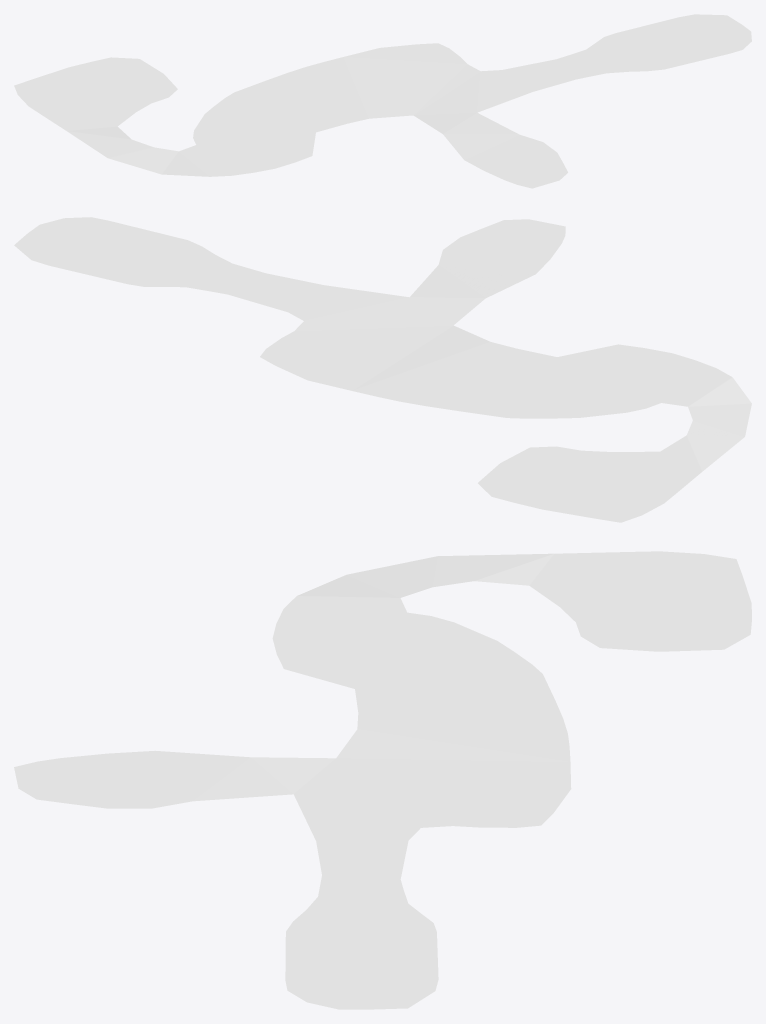
Rendered from terrain_vertical3.glb.
3 renders of one model, top to bottom at view 1: azimuth 30°, elevation 25°; view 2: azimuth 150°, elevation 25°; view 3: azimuth 270°, elevation 25°, orthographic. The views are drawn at different scales.
Visible parts, largest first — view 1: terrain-col; view 2: terrain-col; view 3: terrain-col.
Part boxes in pixels (box(x1,y1,x2,y2)): terrain-col: box(14, 14, 751, 188); terrain-col: box(14, 217, 751, 522); terrain-col: box(14, 551, 751, 1009).
Size of what is drawn, in the model's own units: 323 by 1.2 by 219.
Materials: 1 (1 with a texture image).
